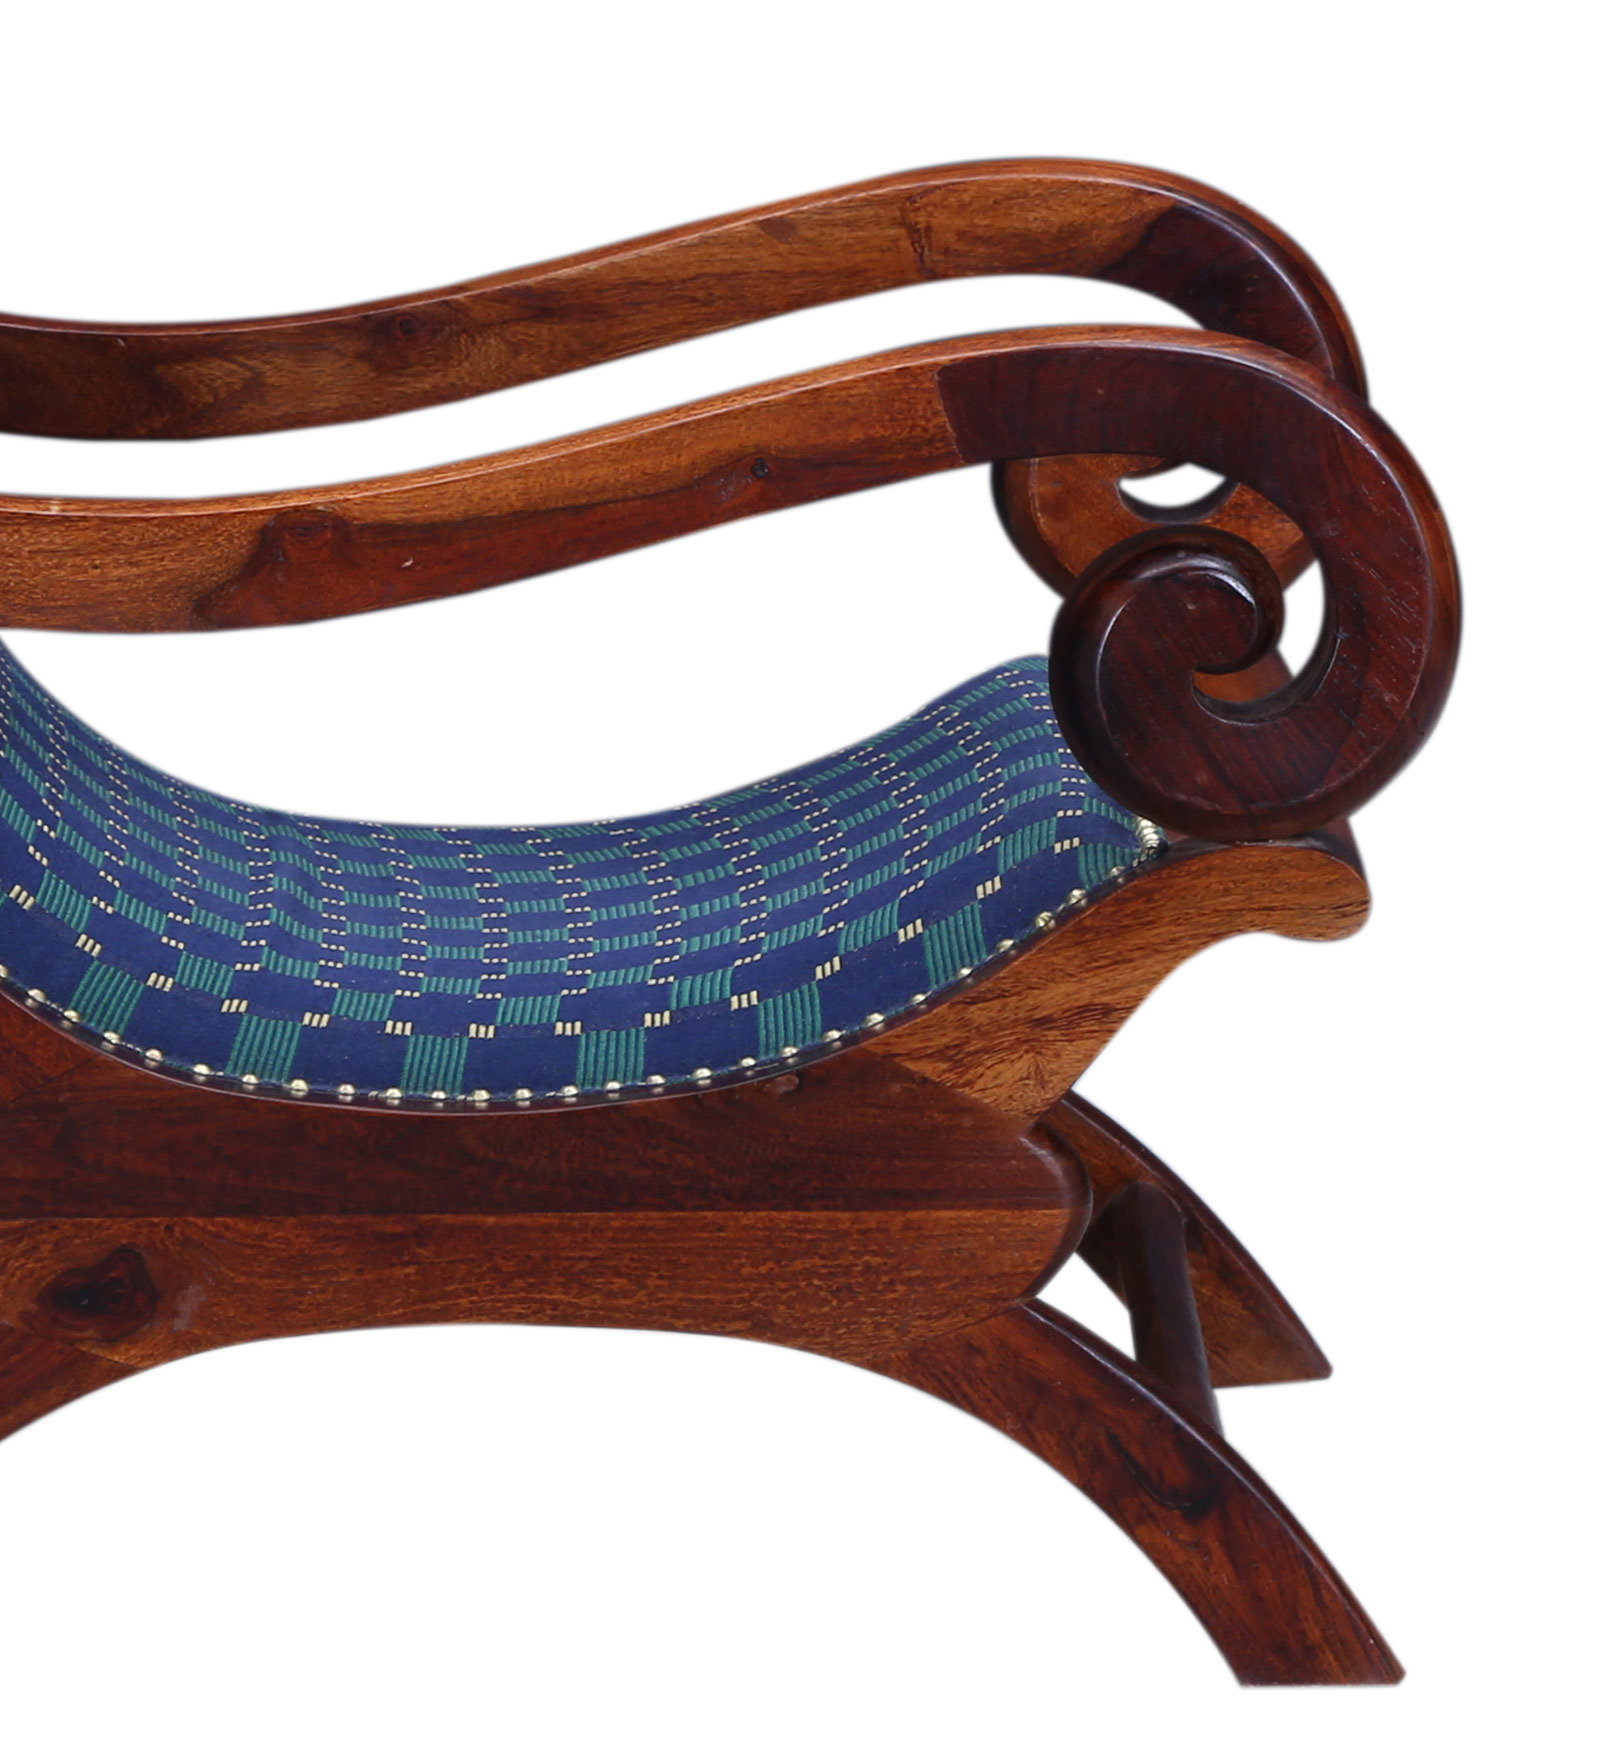Amherst Arm Chair in Honey Oak Finish by Amberville: (34, 207, 1600, 1650)
